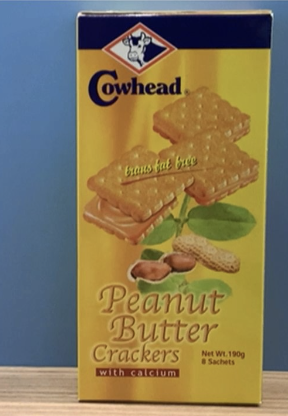crackers_100g-199g: (86, 33, 251, 382)
